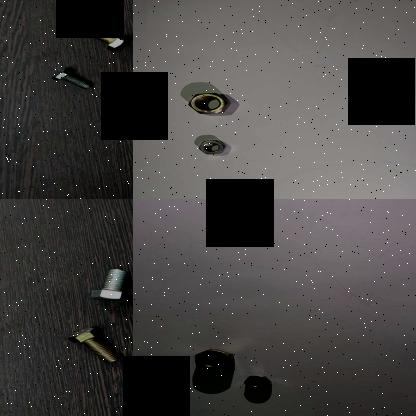Bolts: (63, 323, 130, 363), (81, 265, 133, 305), (74, 23, 133, 52), (49, 66, 97, 93)
NUTS: (184, 88, 238, 119), (187, 346, 237, 372), (190, 138, 233, 156), (242, 372, 272, 392)
